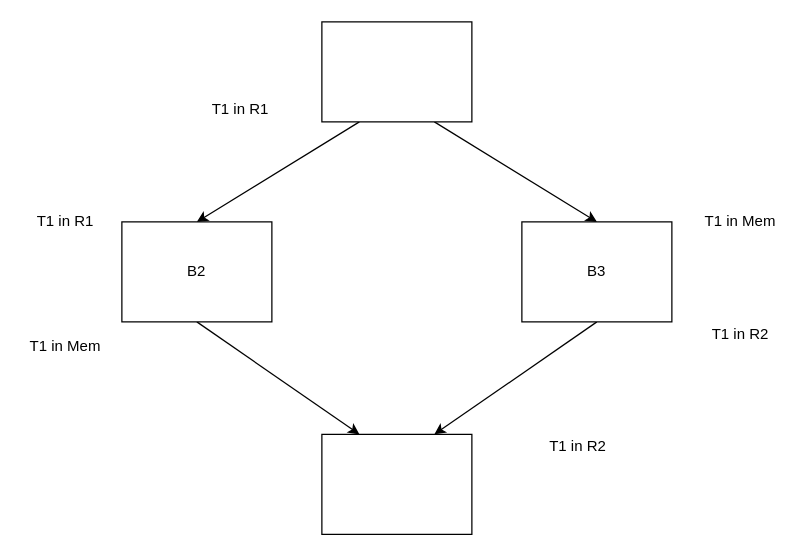
The diagram is 805 pixels wide and 556 high, and some of its shapes have lost their labels. The centre of each missing label's shape, as x and y in pixels:
B1: (x=396, y=71)
B4: (x=396, y=483)
